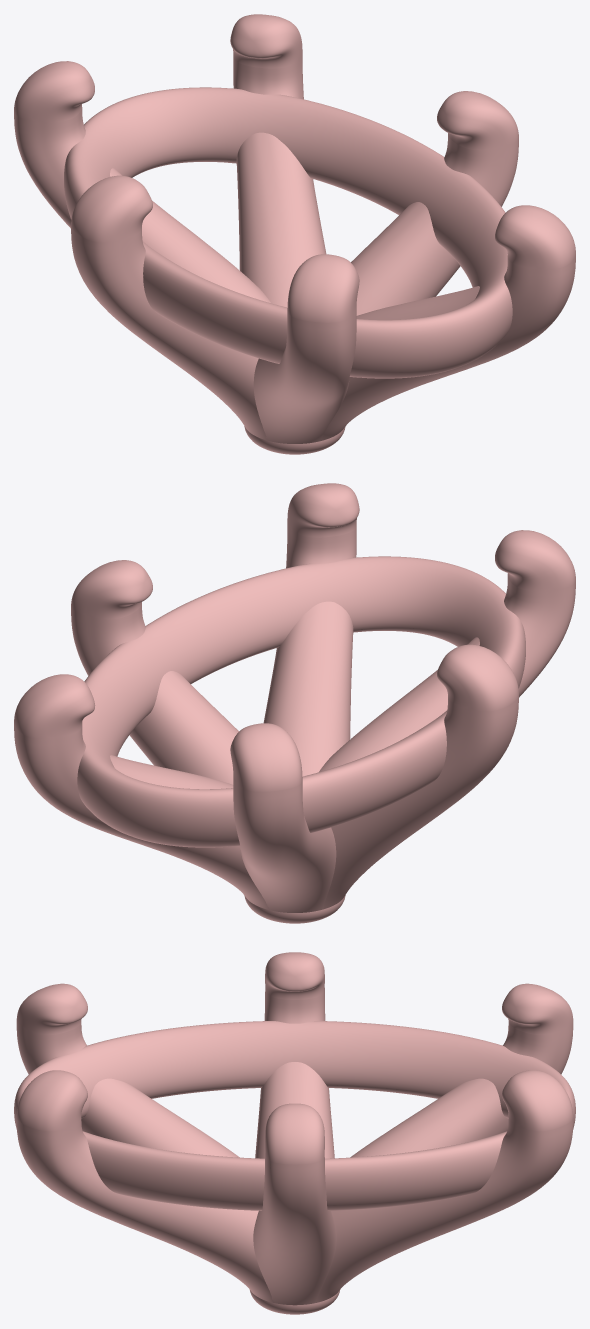
File: OVAL.glb
The picture shows the model from 3 angles, top to bottom: view 1: azimuth 30°, elevation 25°; view 2: azimuth 150°, elevation 25°; view 3: azimuth 270°, elevation 25°; orthographic projection. The views are drawn at different scales.
Parts seen in each view (by area): view 1: oval.001; view 2: oval.001; view 3: oval.001.
Boxes of the visible parts, x1,y1,x2,y2 form: oval.001: [14, 14, 575, 454]; oval.001: [14, 483, 575, 923]; oval.001: [14, 952, 575, 1314].
Bounding box in the file's own units: 6.4 × 4.3 × 8.01.
